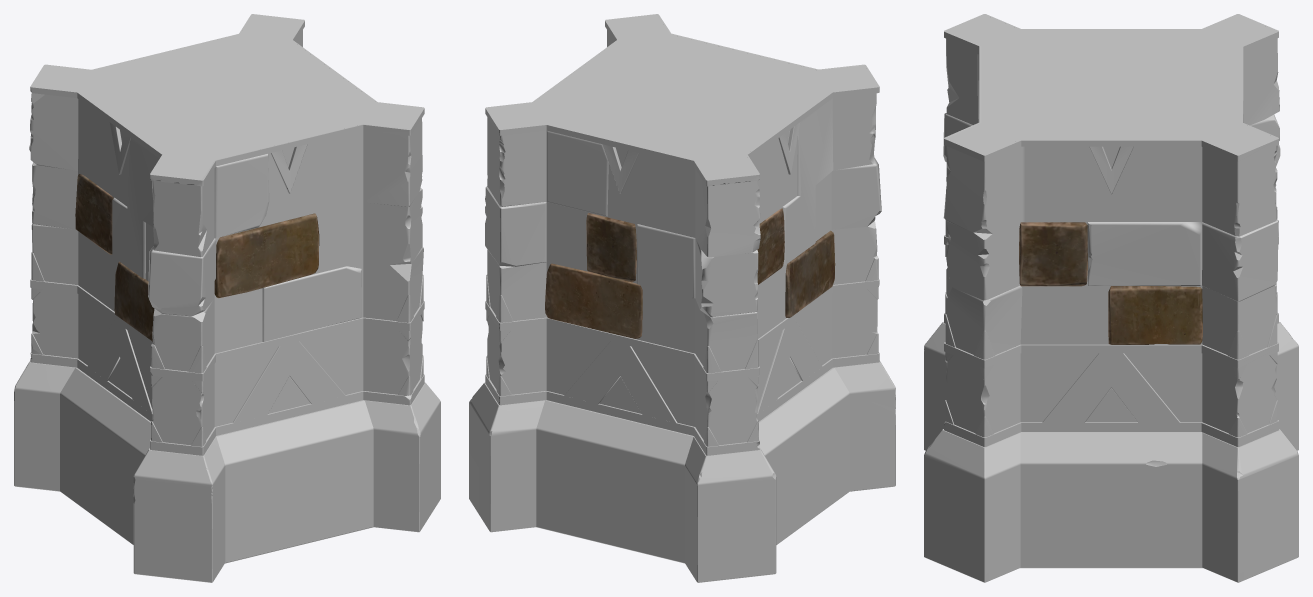
3 views of the same model, side by side, from view 1: azimuth 30°, elevation 25°; view 2: azimuth 150°, elevation 25°; view 3: azimuth 270°, elevation 25° (orthographic). The views are drawn at different scales.
Parts seen in each view (by area): view 1: SM_DK_8m_TowerBase_01_LOD0; view 2: SM_DK_8m_TowerBase_01_LOD0; view 3: SM_DK_8m_TowerBase_01_LOD0.
Part boxes in pixels (x1,y1,x2,y2): SM_DK_8m_TowerBase_01_LOD0: (14,14,440,582); SM_DK_8m_TowerBase_01_LOD0: (469,14,895,582); SM_DK_8m_TowerBase_01_LOD0: (924,14,1298,582).
Size of the model in its own units: 6.48 by 8.01 by 6.48.
